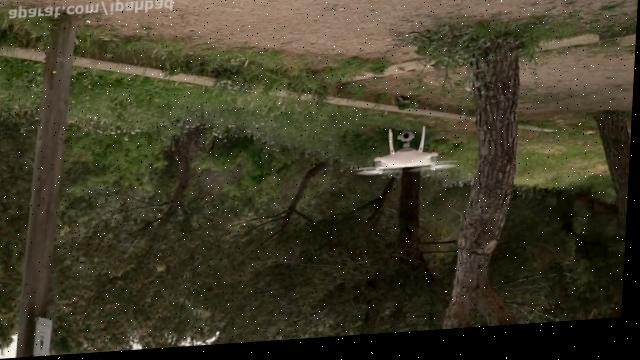drone: (354, 130, 461, 185)
